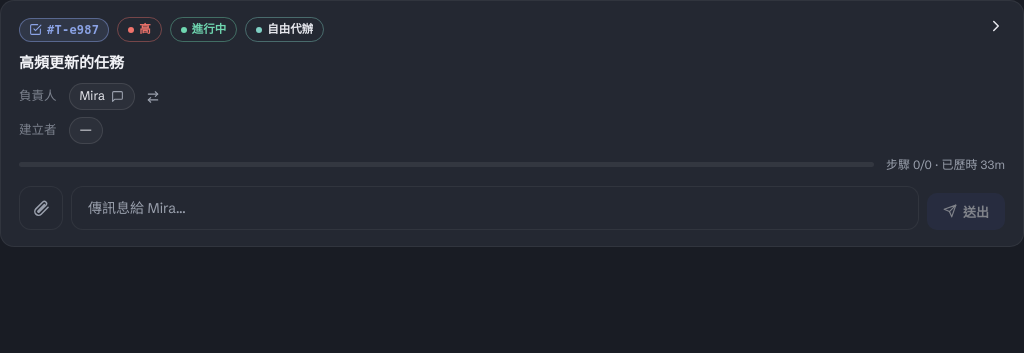
Test: TaskCard transitional copy (T-71e8 · B) › assigned member + zero leaves → 「等待 <name> 建立 Steps」
Click the button with test id "task-card": (512, 232) [0,0,1023,247]
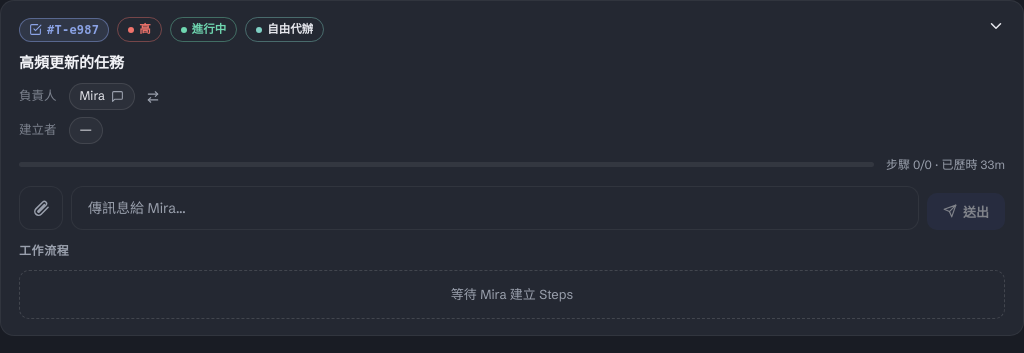
Expected: the text with test id "task-transition" reads "等待 Mira 建立 Steps", [451,286,573,302]
